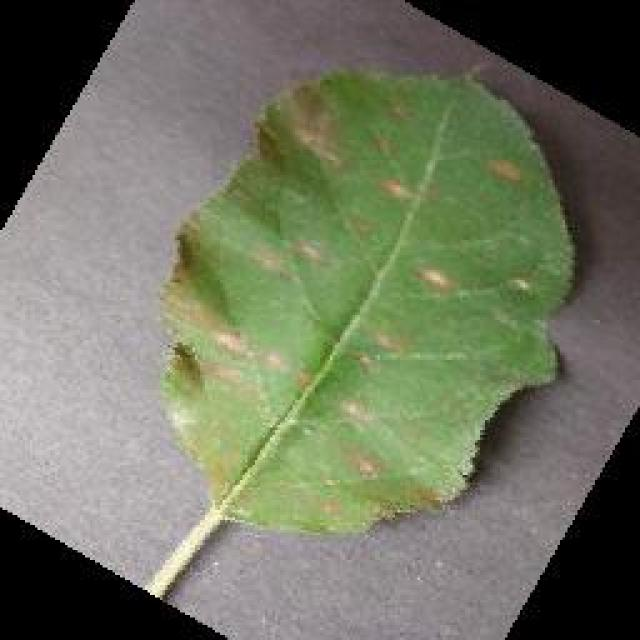apple scab disease: (152, 62, 578, 540)
